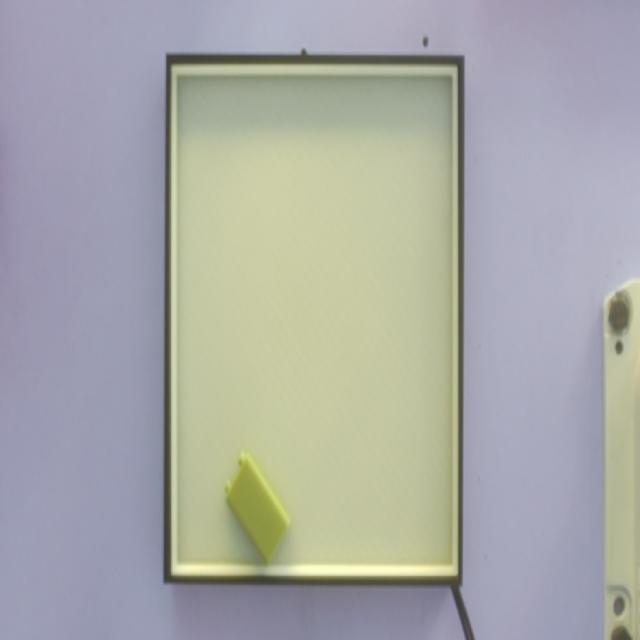bateria: (225, 450, 292, 565)
mesa: (163, 52, 465, 586)
